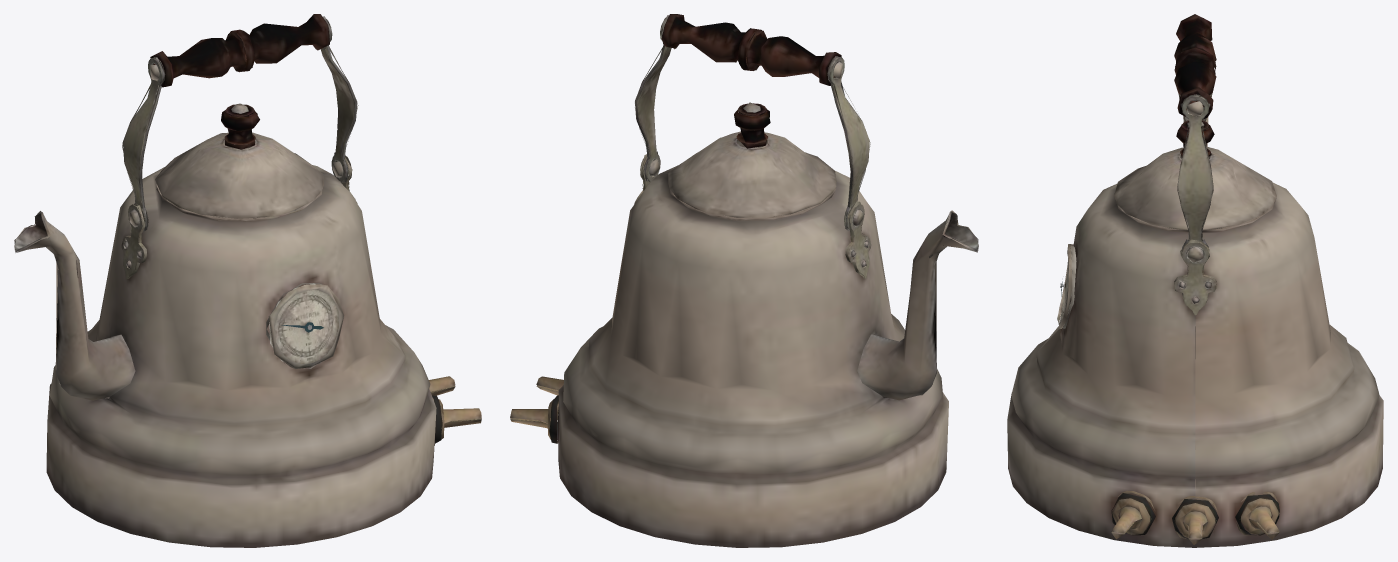
The model's file is kettle.glb.
3 views of the same model, side by side, from view 1: azimuth 30°, elevation 25°; view 2: azimuth 150°, elevation 25°; view 3: azimuth 270°, elevation 25° (orthographic). The views are drawn at different scales.
Parts seen in each view (by area): view 1: vintage_electric_kettle; view 2: vintage_electric_kettle; view 3: vintage_electric_kettle.
Part boxes in pixels (left/top/right/bottom): vintage_electric_kettle: left=14, top=14, right=481, bottom=547; vintage_electric_kettle: left=510, top=14, right=978, bottom=547; vintage_electric_kettle: left=1007, top=14, right=1383, bottom=547.
Bounding box in the file's own units: 0.321 × 0.3059 × 0.2478.
Materials: 1 (1 with a texture image).
